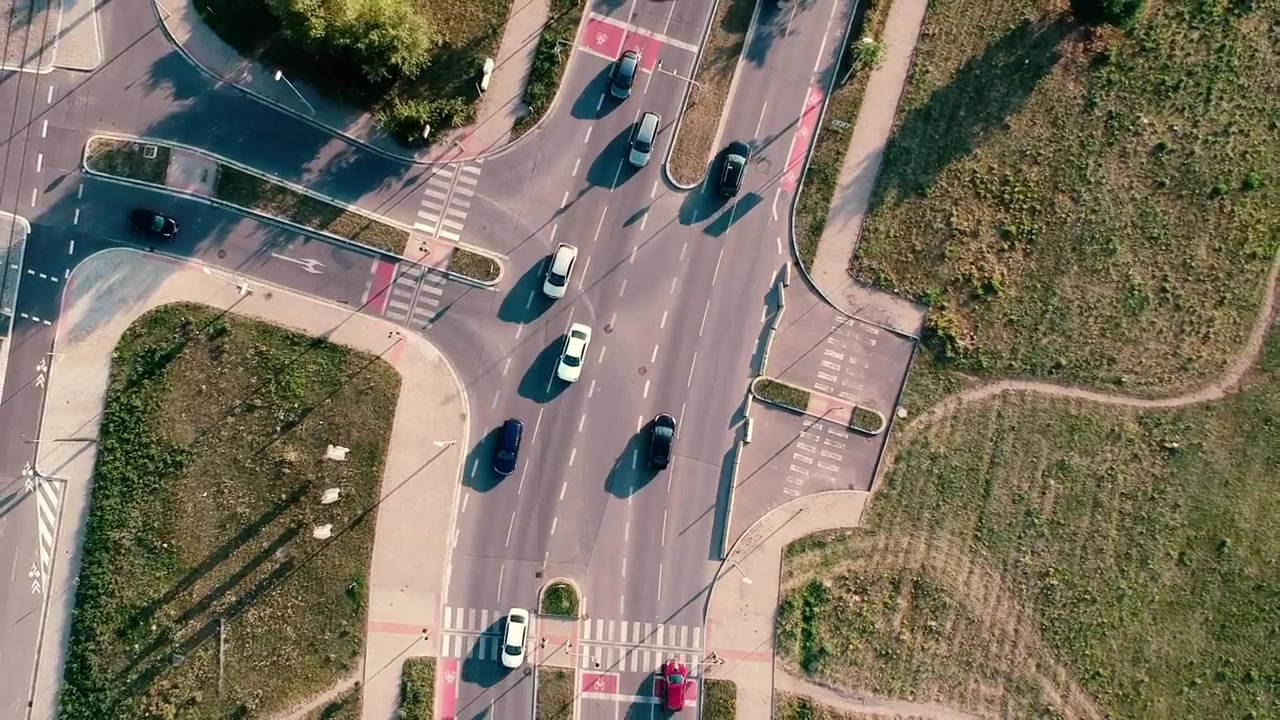car: (541, 239, 580, 302), (556, 320, 594, 384), (715, 138, 751, 199), (628, 109, 664, 169), (645, 410, 679, 473), (492, 416, 527, 477), (501, 606, 530, 673), (607, 48, 642, 101), (659, 657, 688, 716)
